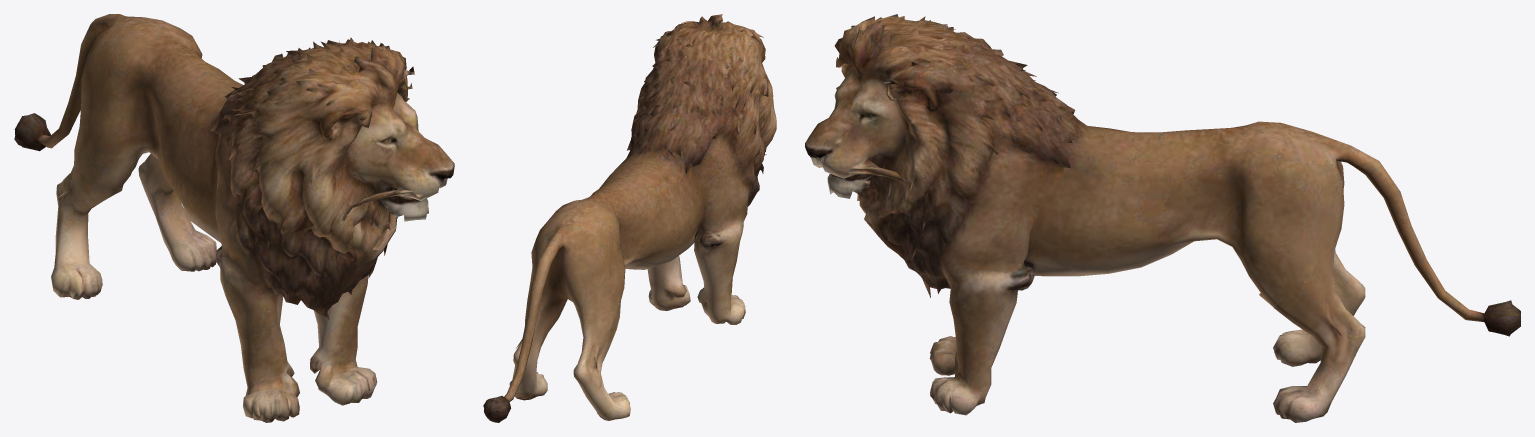
File: leao.glb
3 views of the same model, side by side, from view 1: azimuth 30°, elevation 25°; view 2: azimuth 150°, elevation 25°; view 3: azimuth 270°, elevation 25° (orthographic). The views are drawn at different scales.
Parts seen in each view (by area): view 1: tripo_node_6313b8a6-c9b8-4762-8283-f00b3901f0c1; view 2: tripo_node_6313b8a6-c9b8-4762-8283-f00b3901f0c1; view 3: tripo_node_6313b8a6-c9b8-4762-8283-f00b3901f0c1.
Part boxes in pixels (bbox=[...]): tripo_node_6313b8a6-c9b8-4762-8283-f00b3901f0c1: bbox=[14, 14, 454, 422]; tripo_node_6313b8a6-c9b8-4762-8283-f00b3901f0c1: bbox=[483, 14, 776, 422]; tripo_node_6313b8a6-c9b8-4762-8283-f00b3901f0c1: bbox=[805, 14, 1520, 422].
Bounding box in the file's own units: 0.2547 × 0.5611 × 0.9784.
Materials: 1 (1 with a texture image).
